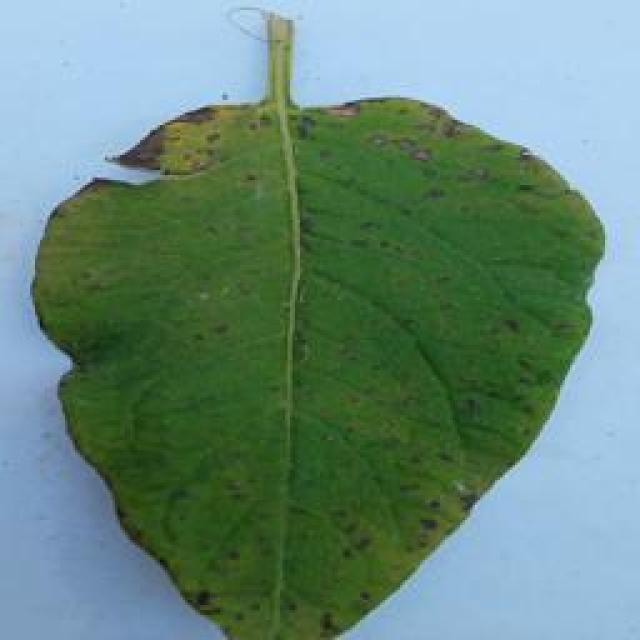Potato_Early_Blight: (22, 87, 640, 640)
